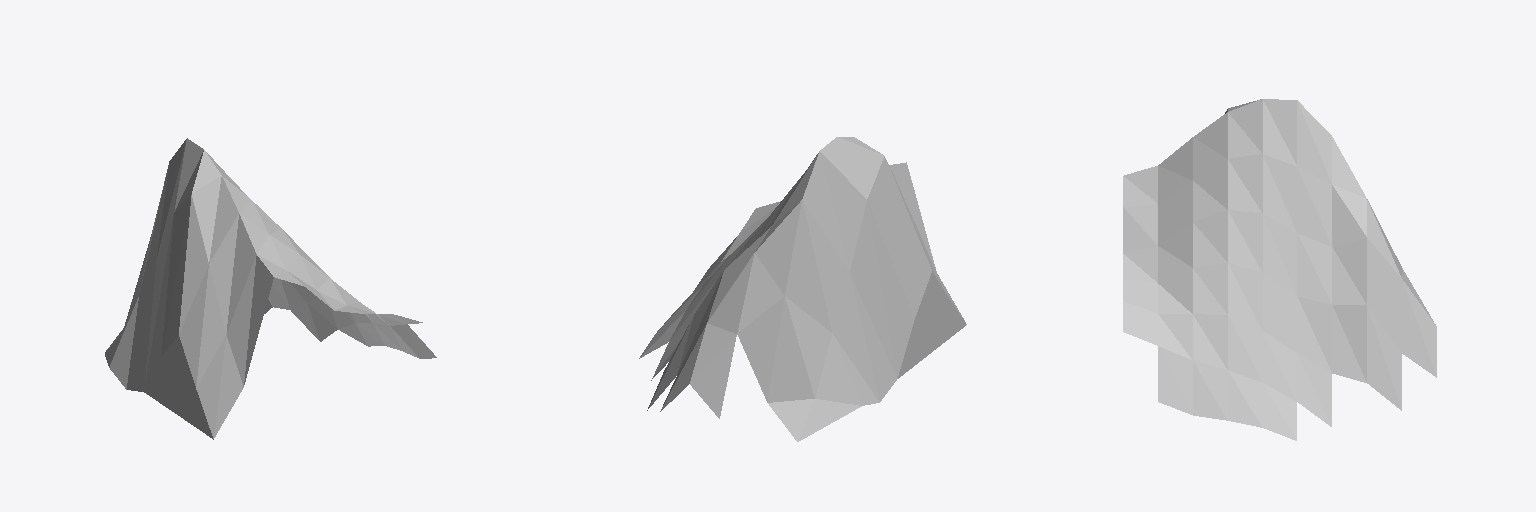
The model's file is tree_64.obj.
The picture shows the model from 3 angles: view 1: azimuth 30°, elevation 25°; view 2: azimuth 150°, elevation 25°; view 3: azimuth 270°, elevation 25°; orthographic projection.
Visible parts, largest first — view 1: tree_64.001; view 2: tree_64.001; view 3: tree_64.001.
Boxes of the visible parts, <box> form: tree_64.001: <box>105,138,436,439</box>; tree_64.001: <box>639,137,966,441</box>; tree_64.001: <box>1123,99,1436,440</box>.
Bounding box in the file's own units: 8 × 8.08 × 9.